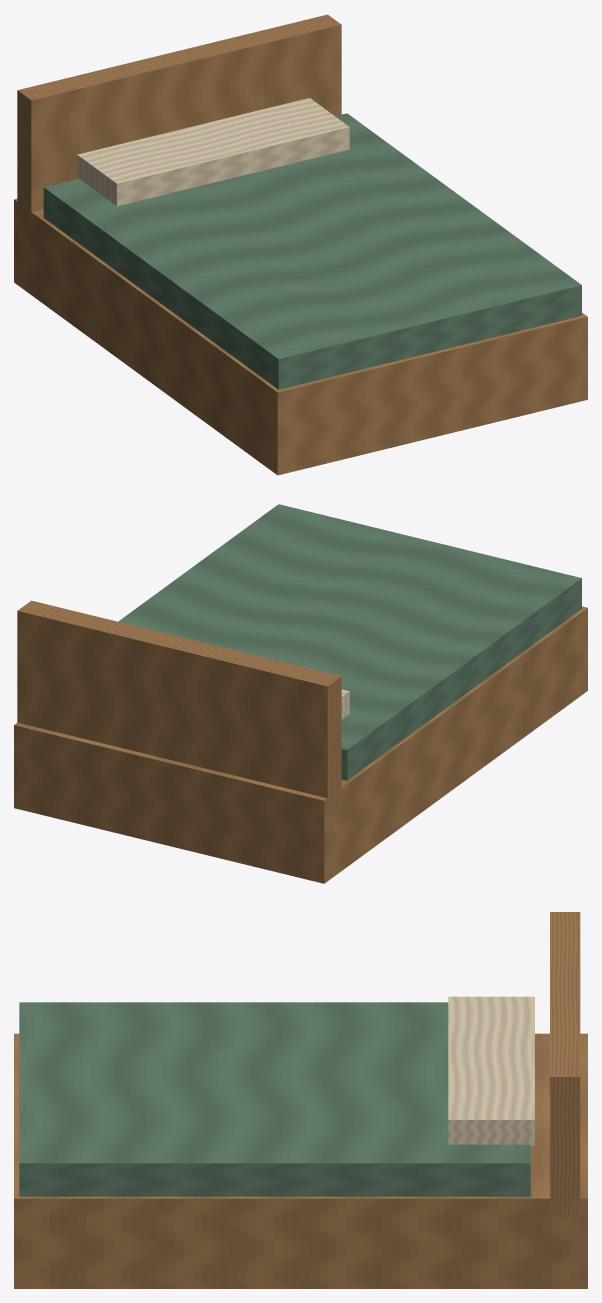
The picture shows the model from 3 angles, top to bottom: view 1: azimuth 30°, elevation 25°; view 2: azimuth 150°, elevation 25°; view 3: azimuth 270°, elevation 25°; orthographic projection. The views are drawn at different scales.
Parts seen in each view (by area): view 1: Hagrids breites Hüttenbett; view 2: Hagrids breites Hüttenbett; view 3: Hagrids breites Hüttenbett.
Part boxes in pixels (x1,y1,x2,y2): Hagrids breites Hüttenbett: (14, 14, 587, 475); Hagrids breites Hüttenbett: (14, 504, 587, 883); Hagrids breites Hüttenbett: (14, 912, 587, 1288).
Size of the model in its own units: 1.8 by 1.08 by 2.65.
3 materials, 3 textured.
